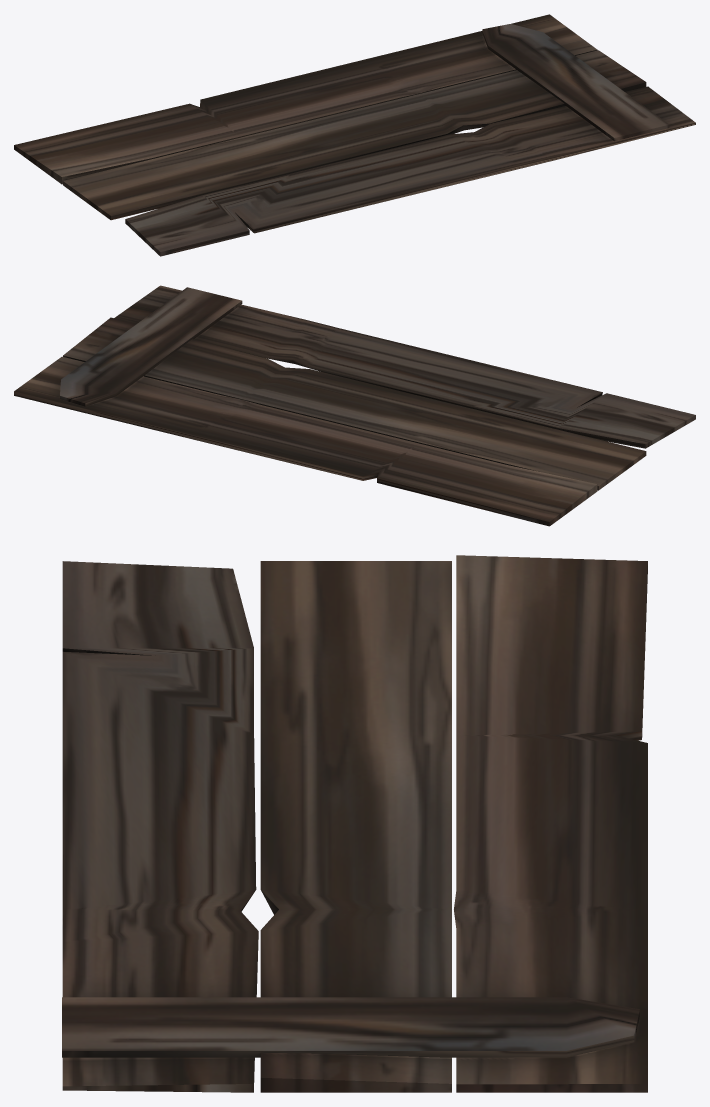
The model's file is big wood.FBX.
The picture shows the model from 3 angles, top to bottom: view 1: azimuth 30°, elevation 25°; view 2: azimuth 150°, elevation 25°; view 3: azimuth 270°, elevation 25°; orthographic projection. The views are drawn at different scales.
Parts seen in each view (by area): view 1: Box001, Box002; view 2: Box001, Box002; view 3: Box001, Box002.
Boxes of the visible parts, bbox=[...] form: Box001: bbox=[14, 14, 695, 256]; Box002: bbox=[482, 24, 669, 141]; Box001: bbox=[14, 285, 695, 526]; Box002: bbox=[60, 287, 242, 406]; Box001: bbox=[62, 555, 647, 1092]; Box002: bbox=[62, 997, 639, 1057].
Bounding box in the file's own units: 61.03 × 0.8577 × 28.91.
